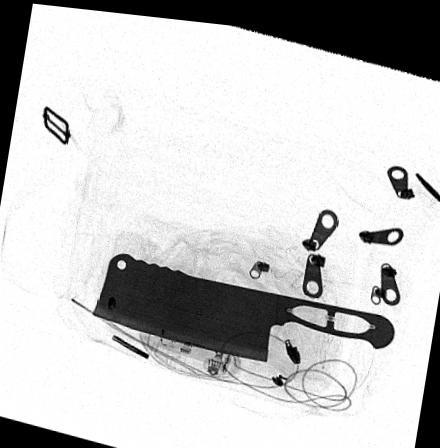Knife: (91, 248, 396, 357)
